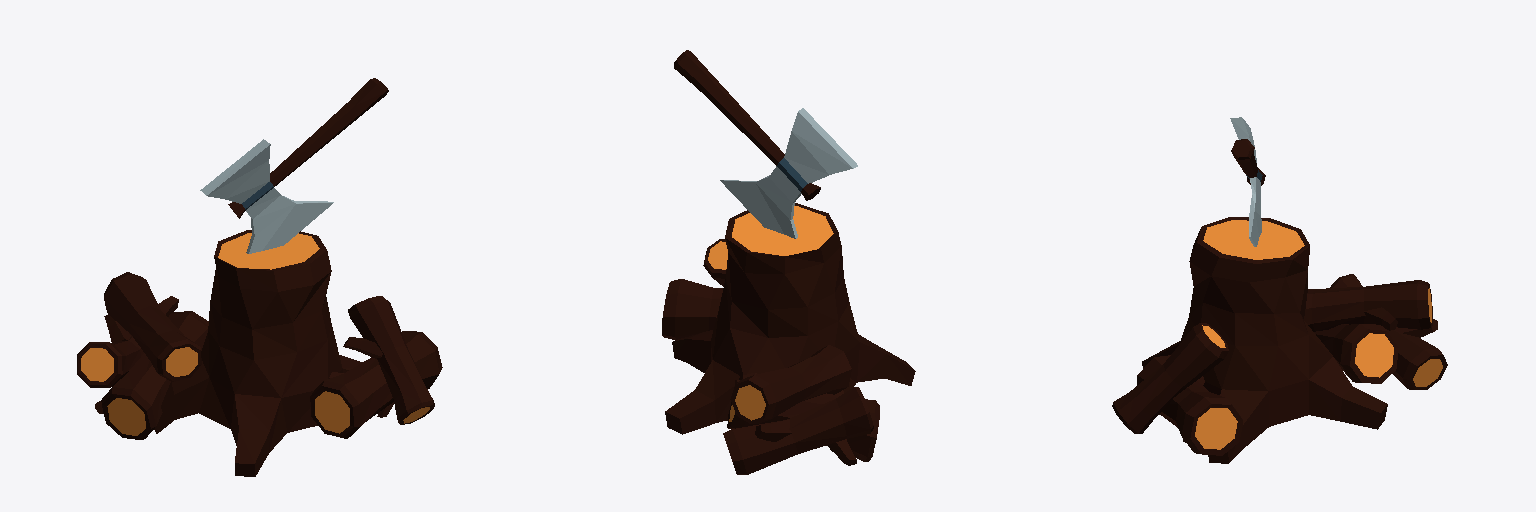
3 views of the same model, side by side, from view 1: azimuth 30°, elevation 25°; view 2: azimuth 150°, elevation 25°; view 3: azimuth 270°, elevation 25° (orthographic).
Parts seen in each view (by area): view 1: group[number redacted]; view 2: group[number redacted]; view 3: group[number redacted].
Boxes of the visible parts, x1=… form: group[number redacted]: x1=77, y1=78, x2=442, y2=476; group[number redacted]: x1=662, y1=50, x2=915, y2=474; group[number redacted]: x1=1112, y1=117, x2=1447, y2=463.
Bounding box in the file's own units: 0.2707 × 0.3023 × 0.2775.